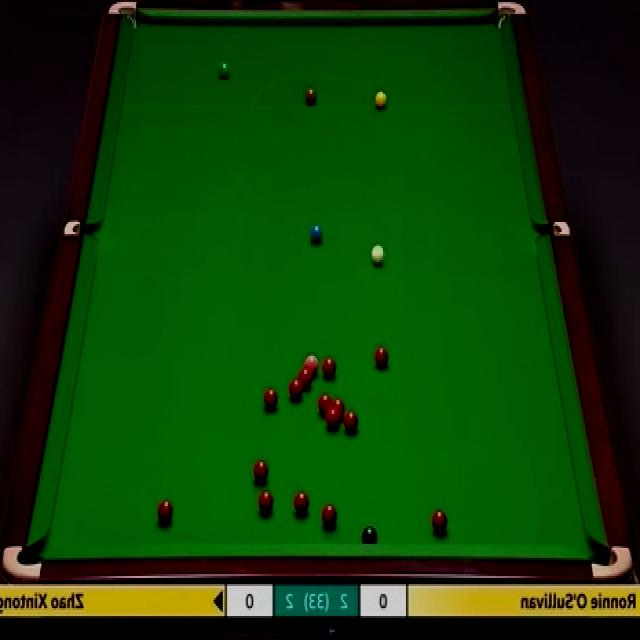black-ball: (359, 524, 375, 547)
blue-ball: (310, 225, 322, 244)
brown-ball: (305, 87, 318, 106)
green-ball: (217, 60, 232, 82)
pink-ball: (304, 352, 320, 374)
red-ball: (257, 488, 275, 516), (157, 498, 175, 524), (253, 458, 270, 485), (320, 504, 339, 528), (374, 344, 390, 370), (293, 488, 309, 514), (432, 508, 448, 533), (288, 379, 304, 404), (322, 355, 337, 379), (263, 387, 278, 411), (316, 392, 331, 416), (343, 410, 359, 432), (326, 405, 340, 429), (298, 368, 313, 386), (331, 397, 344, 415)
white-ball: (370, 243, 386, 267)
yellow-ball: (375, 88, 388, 110)
